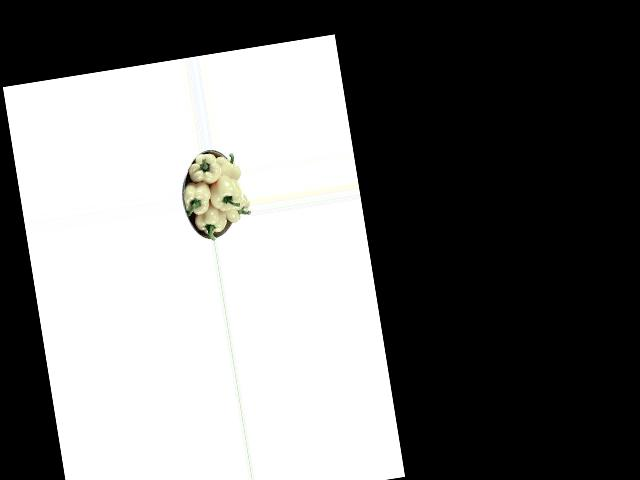bell_pepper: (220, 194, 252, 227)
